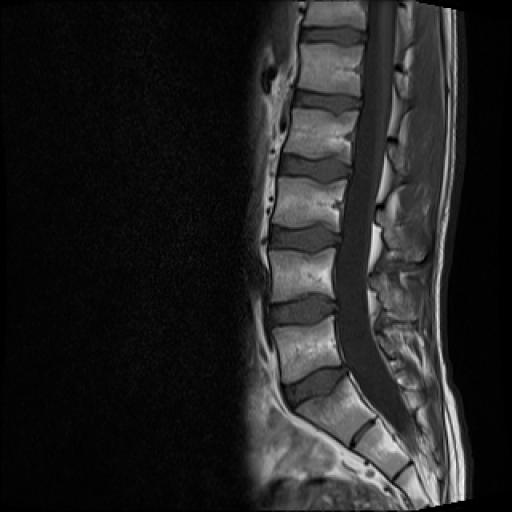L1: (298, 45, 364, 96)
L2: (284, 109, 356, 164)
L3: (274, 177, 346, 232)
L4: (270, 250, 336, 302)
L5: (273, 316, 341, 384)
S1: (296, 378, 375, 444)
